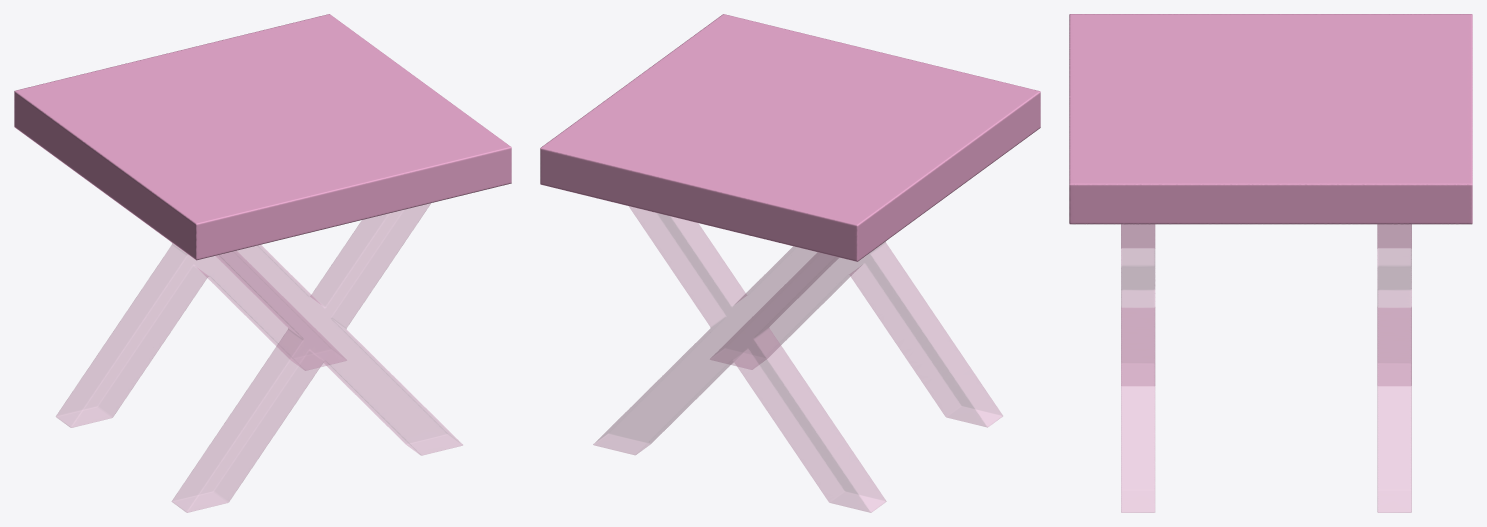
The model's file is sideTable_compressed.glb.
3 views of the same model, side by side, from view 1: azimuth 30°, elevation 25°; view 2: azimuth 150°, elevation 25°; view 3: azimuth 270°, elevation 25° (orthographic). The views are drawn at different scales.
Bounding box in the file's own units: 100 × 93.74 × 100.
Materials: 2 (2 with a texture image).
